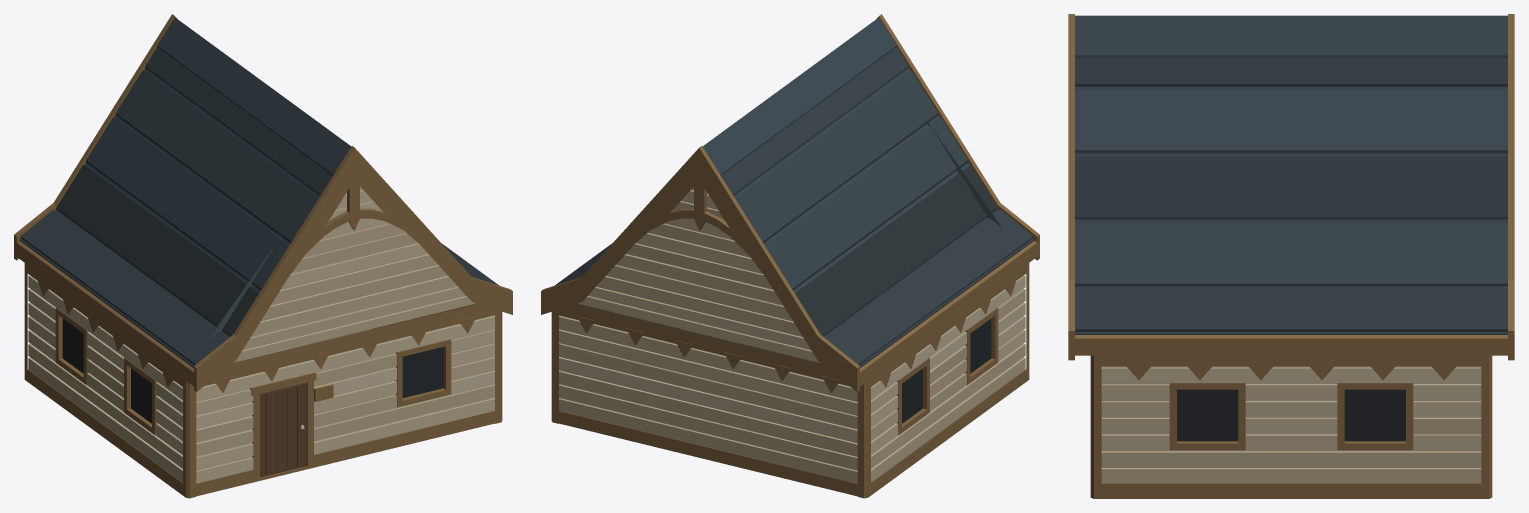
File: porch-front-cottage-620c29.glb
3 views of the same model, side by side, from view 1: azimuth 30°, elevation 25°; view 2: azimuth 150°, elevation 25°; view 3: azimuth 270°, elevation 25° (orthographic). The views are drawn at different scales.
Visible parts, largest first — view 1: cottage-shell, door-leaf; view 2: cottage-shell; view 3: cottage-shell.
Boxes of the visible parts, bbox=[...] form: cottage-shell: bbox=[14, 14, 512, 498]; door-leaf: bbox=[260, 382, 306, 477]; cottage-shell: bbox=[541, 14, 1039, 498]; cottage-shell: bbox=[1068, 14, 1514, 498].
Size of the model in its own units: 8 by 7.72 by 8.
